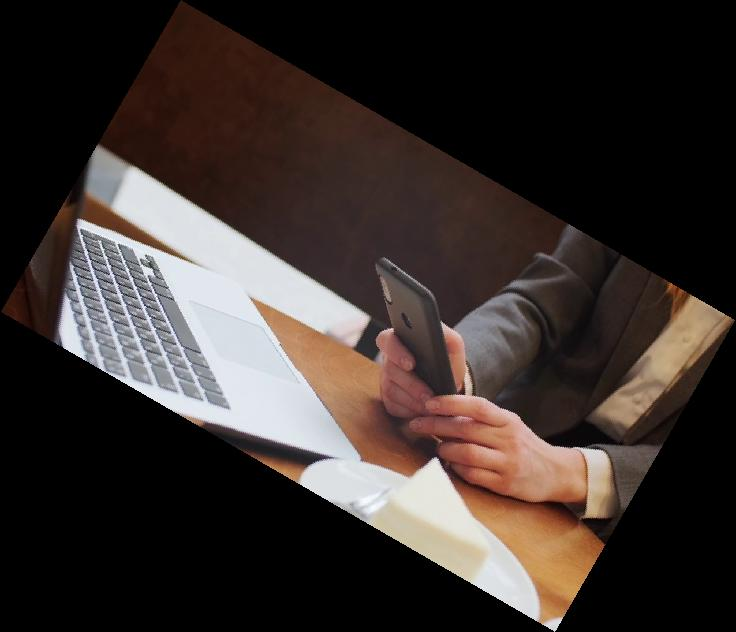phone: (370, 250, 463, 419)
